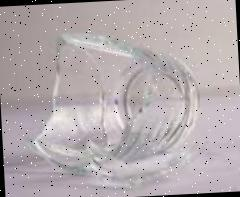glass: (24, 23, 207, 195)
